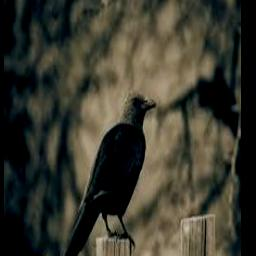Crow: (62, 90, 156, 256)
